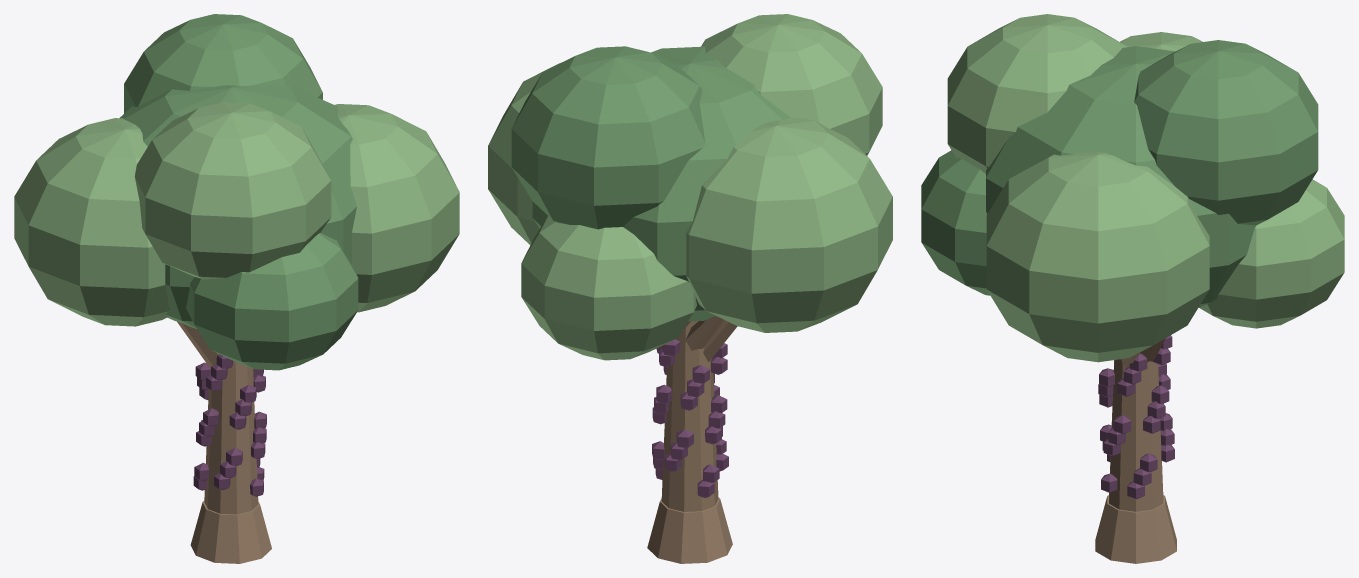
Rendered from tree-high.glb.
3 renders of one model, left to right at view 1: azimuth 30°, elevation 25°; view 2: azimuth 150°, elevation 25°; view 3: azimuth 270°, elevation 25°, orthographic. The views are drawn at different scales.
Visible parts, largest first — view 1: TreeHigh; view 2: TreeHigh; view 3: TreeHigh.
Part boxes in pixels (<box>): TreeHigh: <box>14,14,459,563</box>; TreeHigh: <box>488,14,892,563</box>; TreeHigh: <box>921,14,1344,563</box>.
Size of the model in its own units: 3.7 by 4.45 by 3.34.
